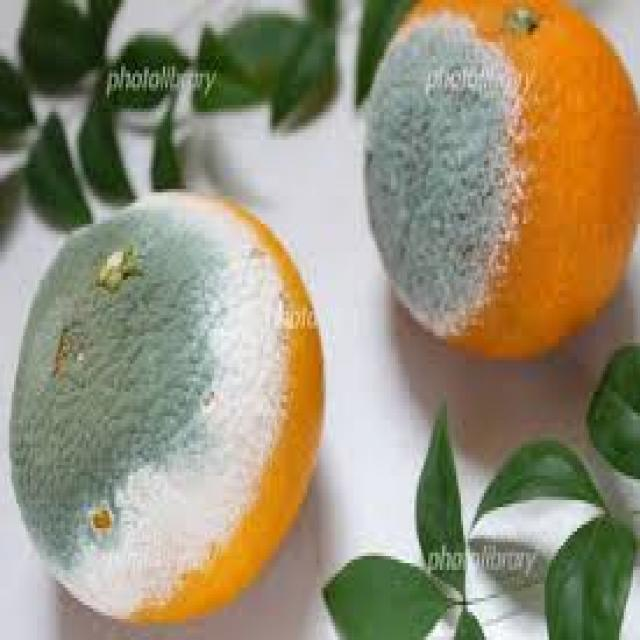organic waste: (9, 182, 321, 622), (360, 0, 638, 360), (465, 437, 610, 535), (542, 511, 638, 636), (319, 552, 447, 636), (414, 392, 463, 602), (193, 14, 300, 105), (18, 0, 118, 80), (77, 66, 135, 203), (23, 108, 88, 220), (586, 343, 638, 479), (100, 31, 191, 105), (270, 24, 333, 122), (354, 0, 400, 98), (146, 91, 184, 185), (0, 56, 35, 133), (447, 605, 479, 637), (302, 0, 335, 24)
